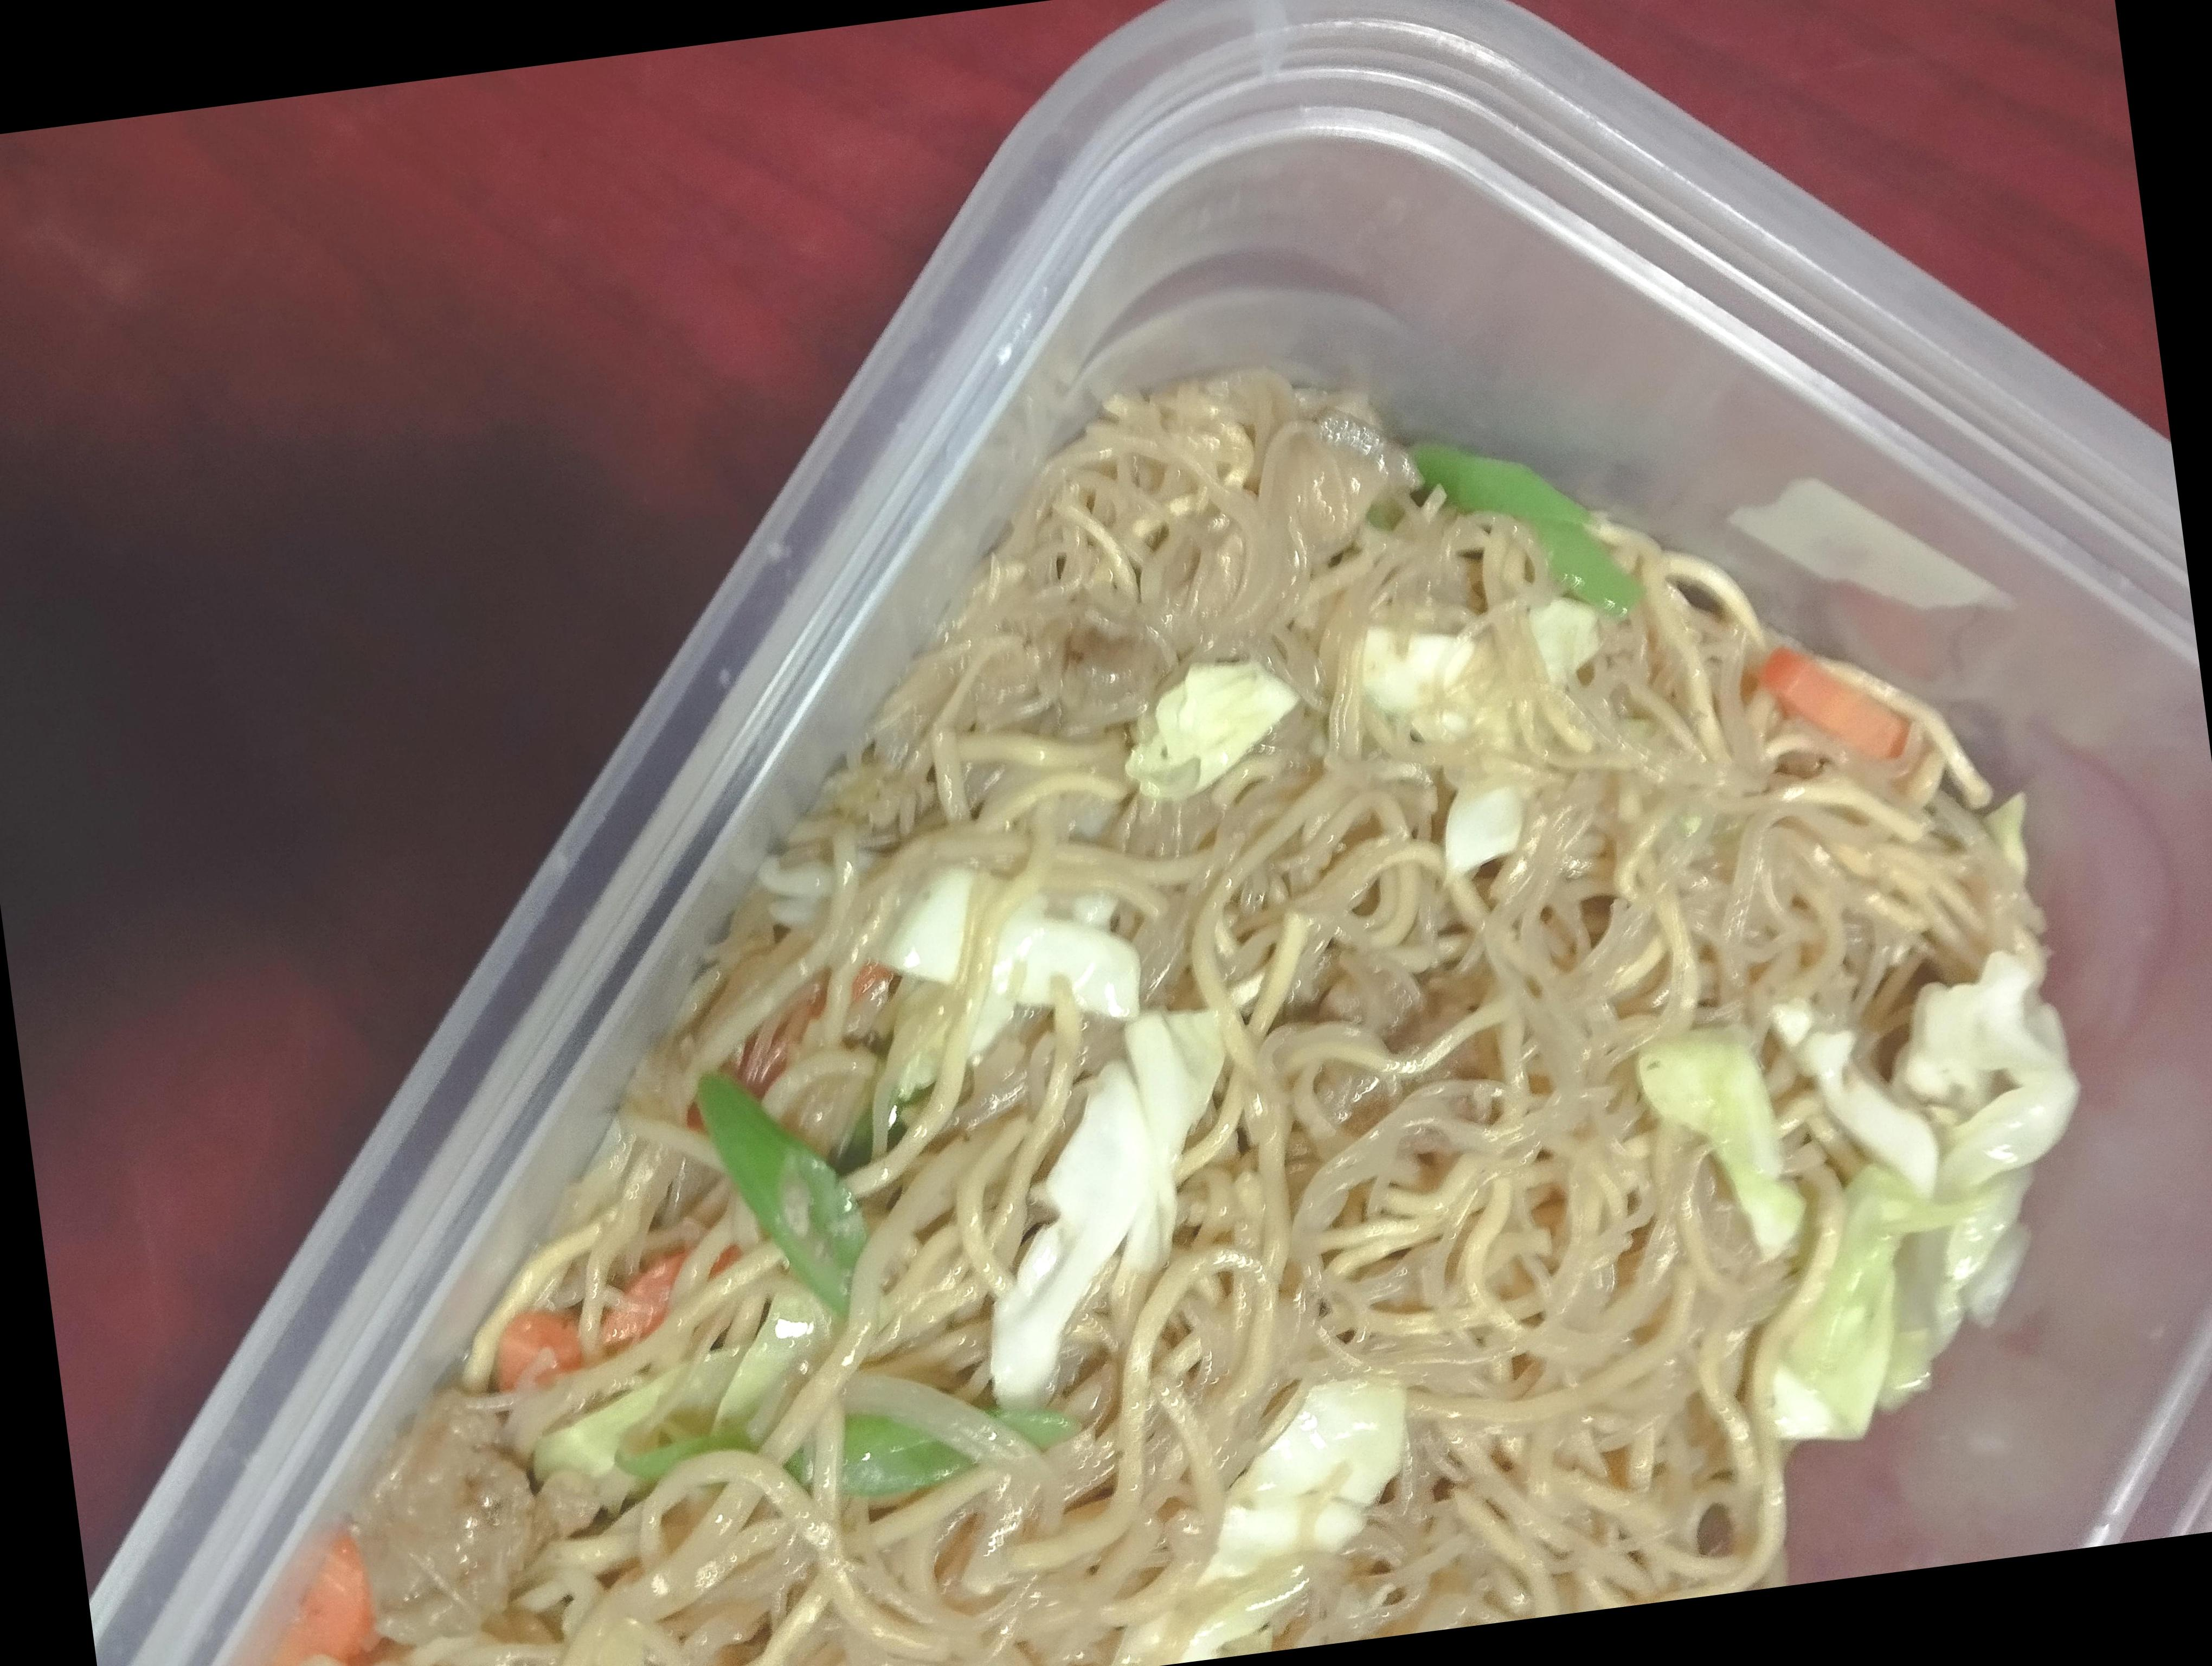pancit bihon: (233, 396, 2091, 1666)
